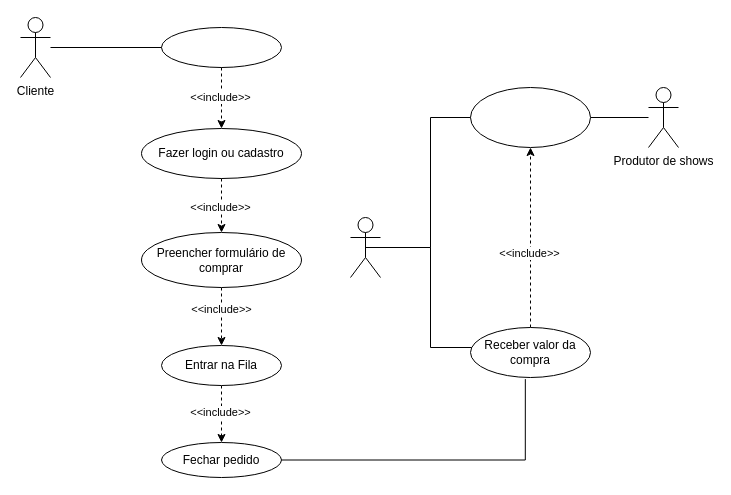
Image size: 731x495. Some labels were removed from this diagram. The shapes that lost their labels are listed below. From the top down, each one's centre as x and y in pixels, then its label:
point 221,47: Comprar ingresso
point 530,117: Repassar valor da compra
point 365,247: Sistema
